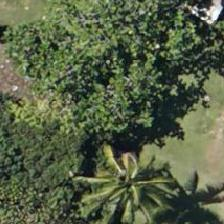coconut_tree: (71, 137, 161, 223)
